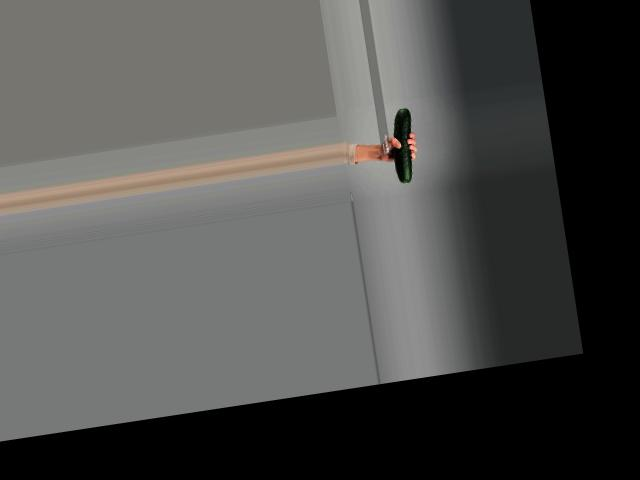cucumber: (387, 106, 420, 182)
